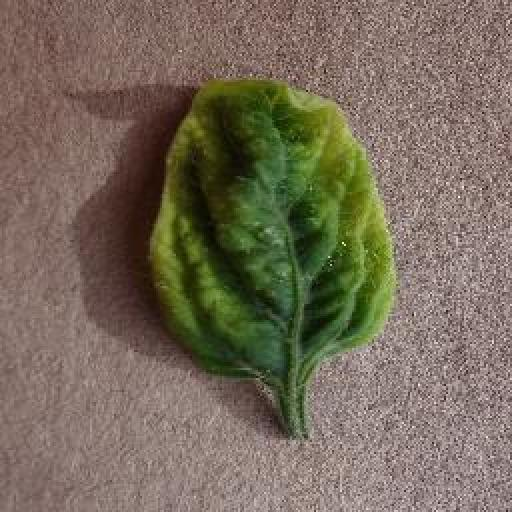Yellow Leaf Curl Virus: (155, 82, 392, 378)
